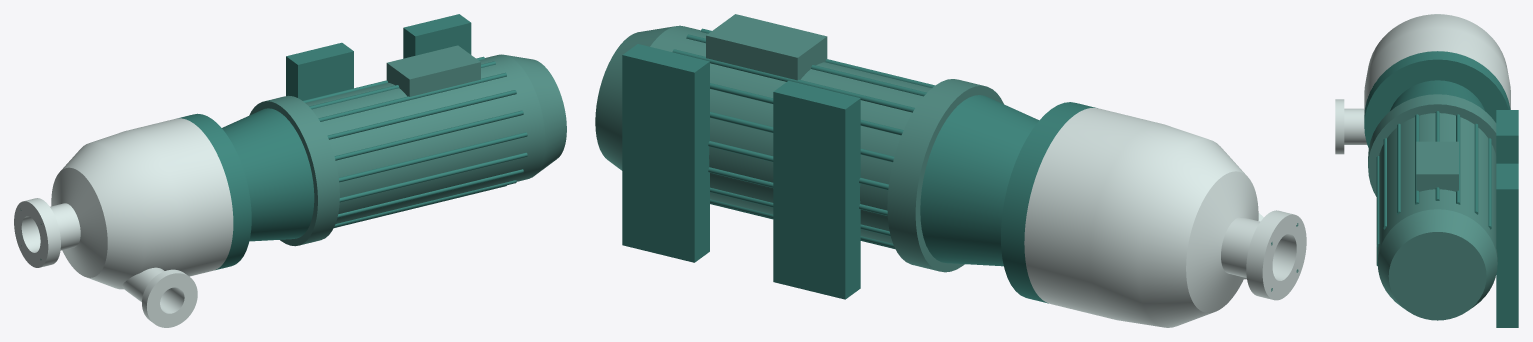
3 views of the same model, side by side, from view 1: azimuth 30°, elevation 25°; view 2: azimuth 150°, elevation 25°; view 3: azimuth 270°, elevation 25° (orthographic). The views are drawn at different scales.
Visible parts, largest first — view 1: 泵体_圆弧壳与轴向进液口, 电机_带筋机壳, 连接座_短连接段, 支脚_电机底脚, 电机_连接法兰, 电机_接线盒, 连接座_泵壳连接环, 电机_圆弧尾罩, 接口_朝上出液法兰, 电机_散热筋04, 电机_散热筋05, 电机_散热筋03 (+6 smaller); view 2: 泵体_圆弧壳与轴向进液口, 支脚_电机底脚, 电机_带筋机壳, 连接座_短连接段, 电机_连接法兰, 电机_接线盒, 连接座_泵壳连接环, 电机_圆弧尾罩, 电机_散热筋18, 电机_散热筋01, 电机_散热筋17, 电机_散热筋16 (+4 smaller); view 3: 电机_圆弧尾罩, 电机_带筋机壳, 泵体_圆弧壳与轴向进液口, 连接座_泵壳连接环, 支脚_电机底脚, 电机_连接法兰, 电机_接线盒, 连接座_短连接段, 接口_偏置竖向出液管, 接口_朝上出液法兰, 电机_散热筋17, 电机_散热筋04 (+6 smaller).
Boxes of the visible parts, bbox=[...] form: 泵体_圆弧壳与轴向进液口: bbox=[14, 118, 233, 289]; 电机_带筋机壳: bbox=[305, 54, 545, 223]; 连接座_短连接段: bbox=[222, 108, 314, 241]; 支脚_电机底脚: bbox=[286, 14, 471, 100]; 电机_连接法兰: bbox=[249, 95, 339, 246]; 电机_接线盒: bbox=[386, 45, 480, 96]; 连接座_泵壳连接环: bbox=[177, 113, 251, 270]; 电机_圆弧尾罩: bbox=[506, 55, 566, 175]; 接口_朝上出液法兰: bbox=[142, 269, 197, 327]; 电机_散热筋04: bbox=[334, 110, 523, 160]; 电机_散热筋05: bbox=[338, 132, 527, 182]; 电机_散热筋03: bbox=[327, 90, 516, 139]; 泵体_圆弧壳与轴向进液口: bbox=[1024, 108, 1306, 327]; 支脚_电机底脚: bbox=[622, 44, 860, 299]; 电机_带筋机壳: bbox=[650, 25, 931, 243]; 连接座_短连接段: bbox=[920, 95, 1038, 266]; 电机_连接法兰: bbox=[887, 79, 1003, 272]; 电机_接线盒: bbox=[706, 14, 827, 80]; 连接座_泵壳连接环: bbox=[1001, 102, 1097, 303]; 电机_圆弧尾罩: bbox=[595, 26, 673, 170]; 电机_散热筋18: bbox=[672, 49, 914, 112]; 电机_散热筋01: bbox=[686, 34, 926, 96]; 电机_散热筋17: bbox=[710, 83, 903, 135]; 电机_散热筋16: bbox=[710, 112, 894, 162]; 电机_圆弧尾罩: bbox=[1377, 209, 1497, 320]; 电机_带筋机壳: bbox=[1377, 113, 1497, 261]; 泵体_圆弧壳与轴向进液口: bbox=[1364, 14, 1510, 114]; 连接座_泵壳连接环: bbox=[1364, 51, 1510, 147]; 支脚_电机底脚: bbox=[1496, 110, 1518, 327]; 电机_连接法兰: bbox=[1368, 94, 1496, 196]; 电机_接线盒: bbox=[1416, 141, 1458, 191]; 连接座_短连接段: bbox=[1390, 80, 1485, 111]; 接口_偏置竖向出液管: bbox=[1344, 108, 1367, 144]; 接口_朝上出液法兰: bbox=[1335, 99, 1344, 154]; 电机_散热筋17: bbox=[1474, 123, 1478, 214]; 电机_散热筋04: bbox=[1383, 138, 1386, 229].
Size of the model in its own units: 2.15 by 0.596 by 0.715.
